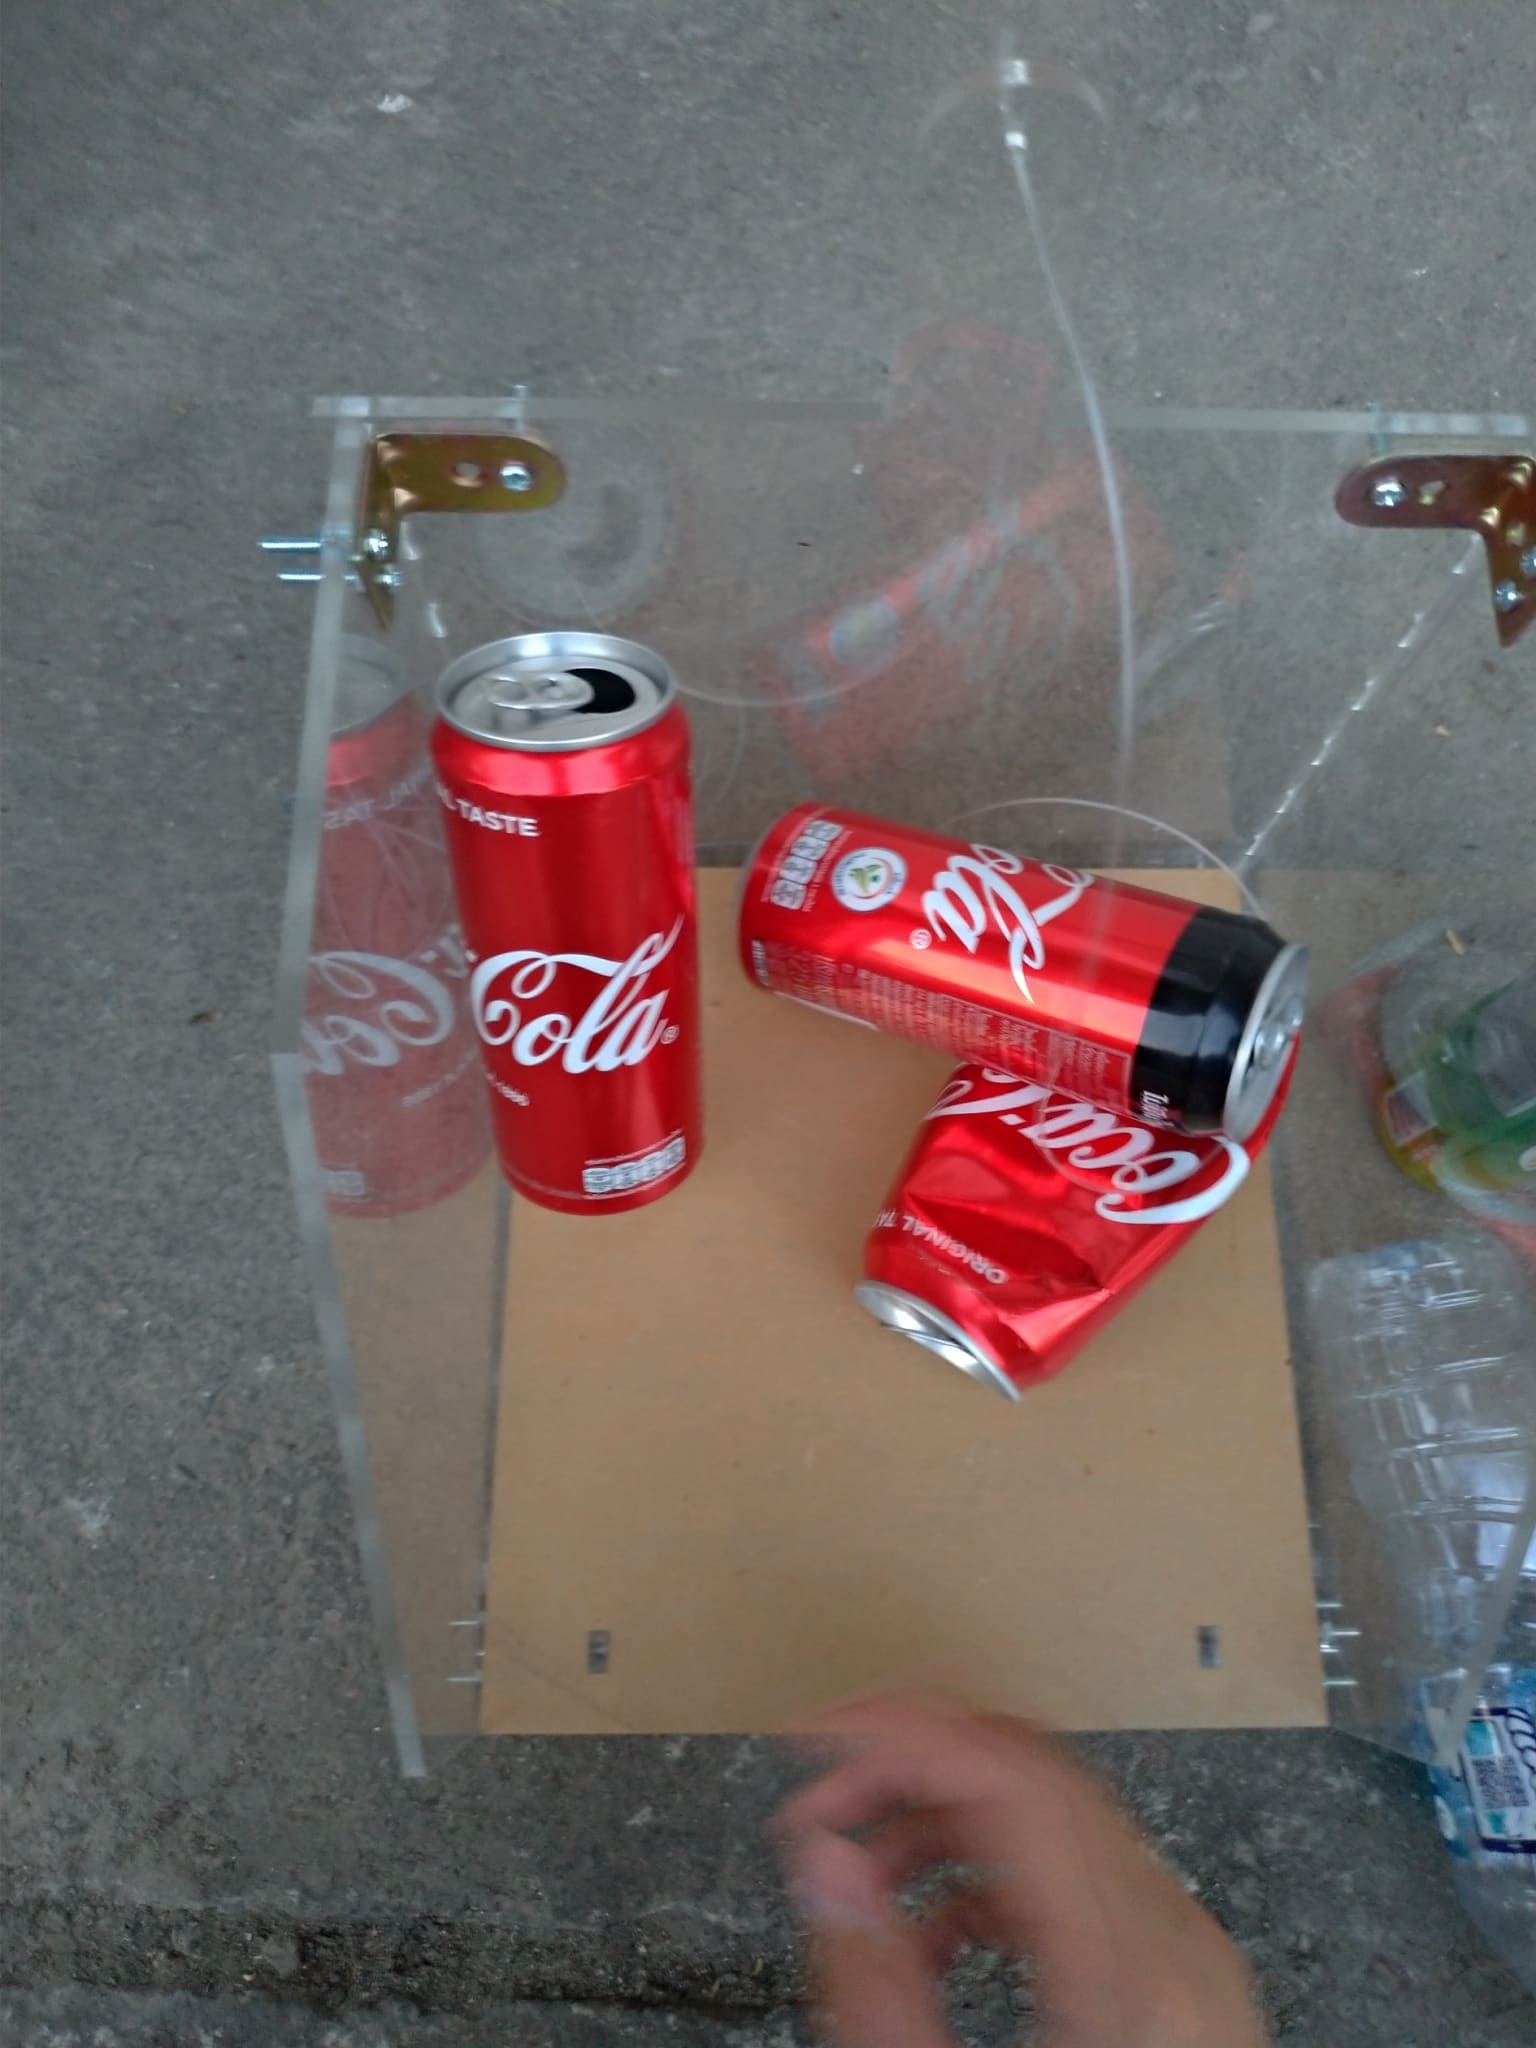AlCan: (733, 797, 1300, 1142), (428, 619, 712, 1213), (862, 1048, 1275, 1390), (1375, 956, 1536, 1197)
PlasticBottle: (1296, 1232, 1536, 1958)
